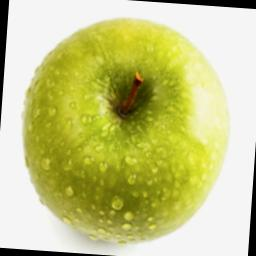Apple Unripe: (0, 3, 256, 245)
